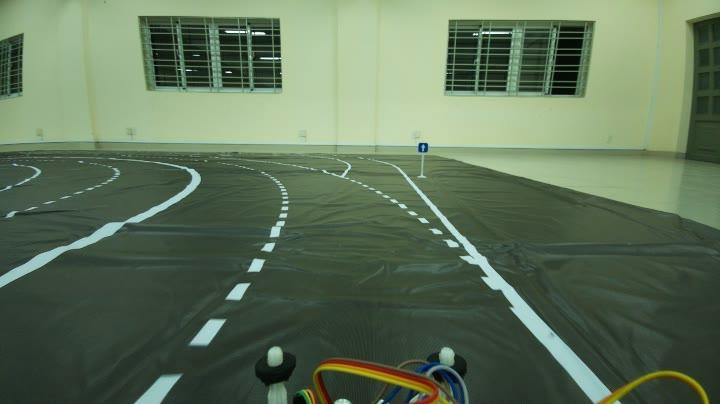onewayroad: (410, 136, 436, 156)
